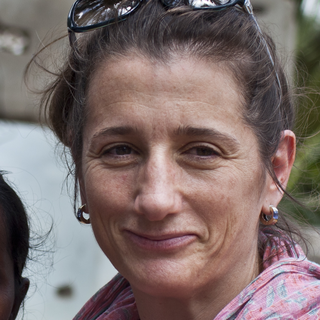eye: (169, 134, 229, 169), (93, 134, 147, 167)
